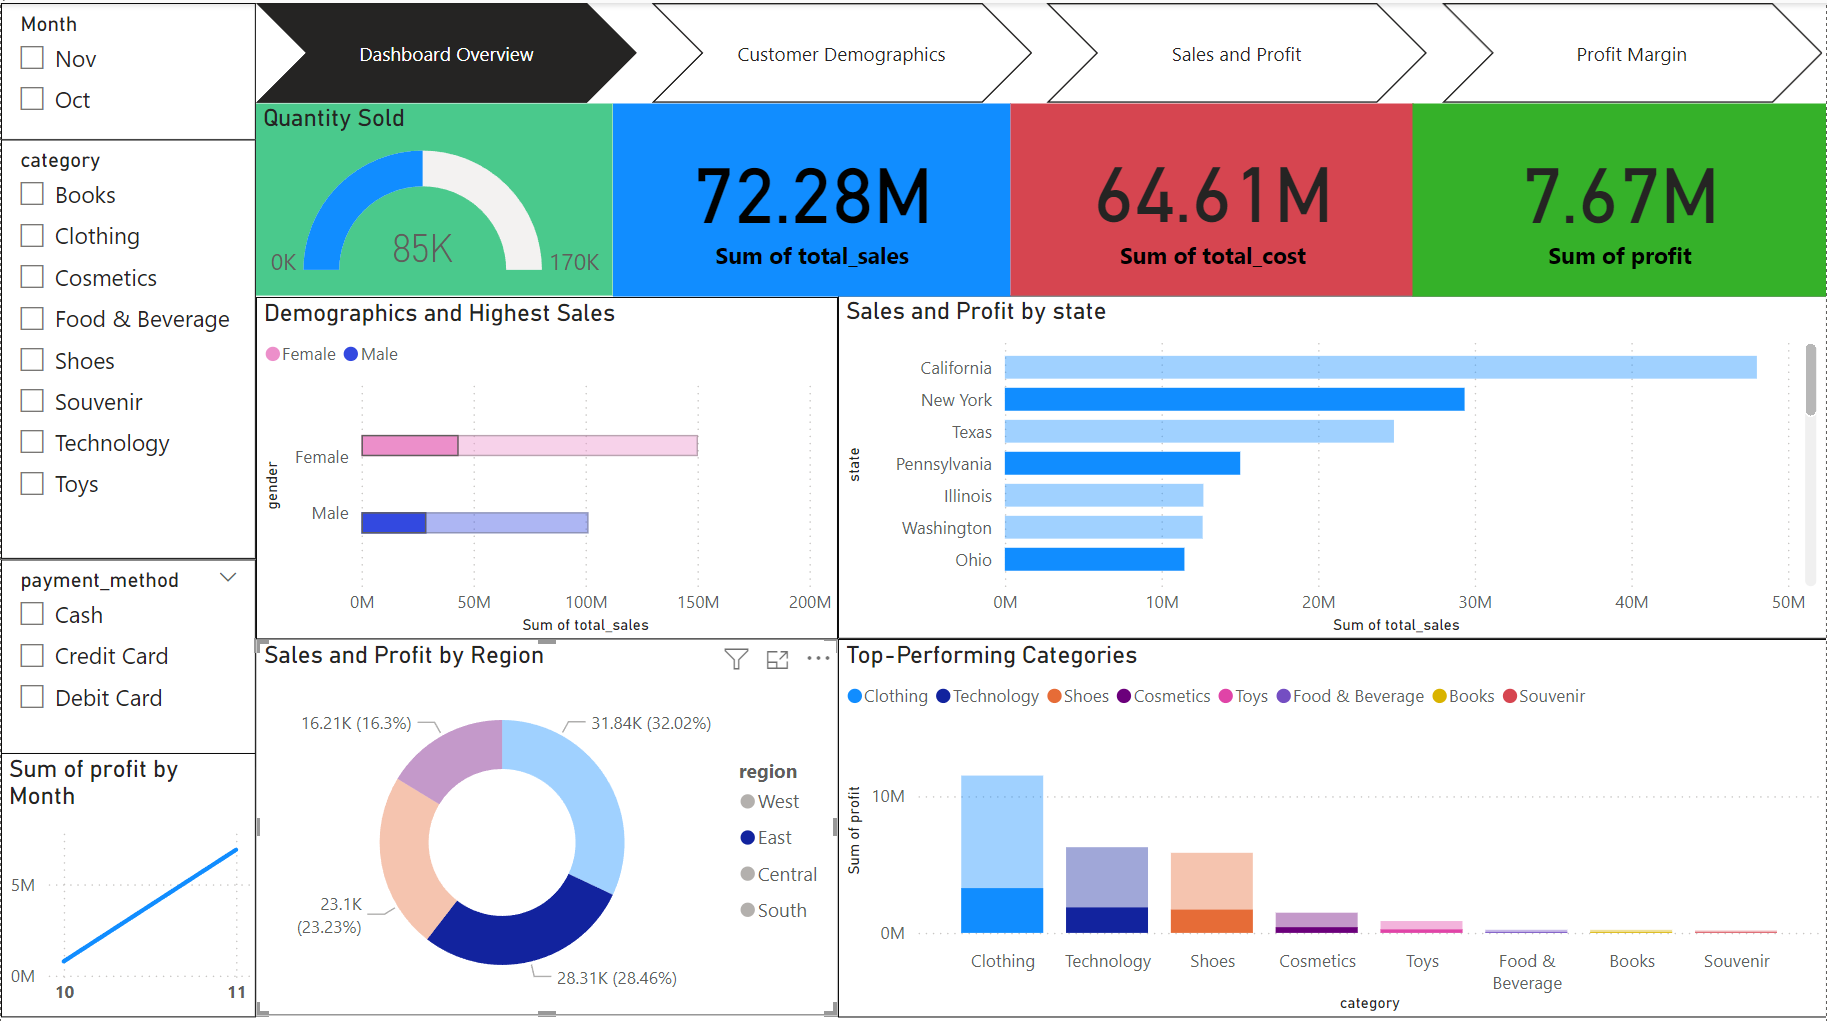

What the dashboard file says about the page in this screenshot:
{"tool":"powerbi","page":{"name":"Dashboard Overview","canvas":[1280,720],"ordinal":0},"visuals":[{"type":"slicer","fields":{"Values":["Table2.First Characters"]},"box":[0,0,178.4,96.2],"z":0},{"type":"slicer","fields":{"Values":["Table2.payment_method"]},"box":[0,390.2,178.8,145.1],"z":1000},{"type":"card","fields":{"Values":["Sum(Table2.total_sales)"]},"box":[428.7,0,279.3,135.6],"z":2000},{"type":"card","fields":{"Values":["Sum(Table2.total_cost)"]},"box":[708,1.2,282.7,134.4],"z":3000},{"type":"card","fields":{"Values":["Sum(Table2.profit)"]},"box":[990.7,0,289.7,135.6],"z":4000},{"type":"slicer","fields":{"Values":["Table2.category"]},"box":[0,96.2,178.4,294.3],"z":5000},{"type":"clusteredBarChart","title":"Sales and Profit by state","fields":{"Category":["Table2.state"],"Y":["Sum(Table2.total_sales)"]},"box":[708,135.6,572.4,265.3],"z":6000},{"type":"donutChart","title":"Sales and Profit by Region ","fields":{"Category":["Table2.region"],"Y":["CountNonNull(Table2.region)"]},"box":[178.4,360.4,529.5,349.9],"z":7000},{"type":"gauge","title":"Quantity Sold","fields":{"Y":["Sum(Table2.quantity)"]},"box":[178.4,0,250.3,135.6],"z":8000},{"type":"columnChart","title":"Top-Performing Categories","fields":{"Category":["Table2.category"],"Y":["Sum(Table2.profit)"],"Series":["Table2.category"]},"box":[708,400.9,572.4,309.4],"z":9000},{"type":"clusteredBarChart","title":"Demographics and Highest Sales","fields":{"Category":["Table2.gender"],"Y":["Sum(Table2.total_sales)"],"Series":["Table2.gender"]},"box":[178.4,135.6,529.5,224.8],"z":10000},{"type":"lineChart","fields":{"Category":["Table2.Month"],"Y":["Sum(Table2.profit)"]},"box":[0,525.8,178.8,185.1],"z":11000}]}

Visuals, with their boxes in screenshot pixels (x1, y1, x2, y2), scaled from the page's 1280x720 canvas onto the 1827x1021 screenshot:
slicer - Table2.First Characters: bbox(0, 0, 255, 136)
slicer - Table2.payment_method: bbox(0, 553, 255, 759)
card - Sum(Table2.total_sales): bbox(612, 0, 1011, 192)
card - Sum(Table2.total_cost): bbox(1011, 2, 1414, 192)
card - Sum(Table2.profit): bbox(1414, 0, 1826, 192)
slicer - Table2.category: bbox(0, 136, 255, 554)
"Sales and Profit by state" clusteredBarChart: bbox(1011, 192, 1826, 568)
"Sales and Profit by Region " donutChart: bbox(255, 511, 1010, 1007)
"Quantity Sold" gauge: bbox(255, 0, 612, 192)
"Top-Performing Categories" columnChart: bbox(1011, 568, 1826, 1007)
"Demographics and Highest Sales" clusteredBarChart: bbox(255, 192, 1010, 511)
lineChart - Table2.Month x Sum(Table2.profit): bbox(0, 746, 255, 1008)
